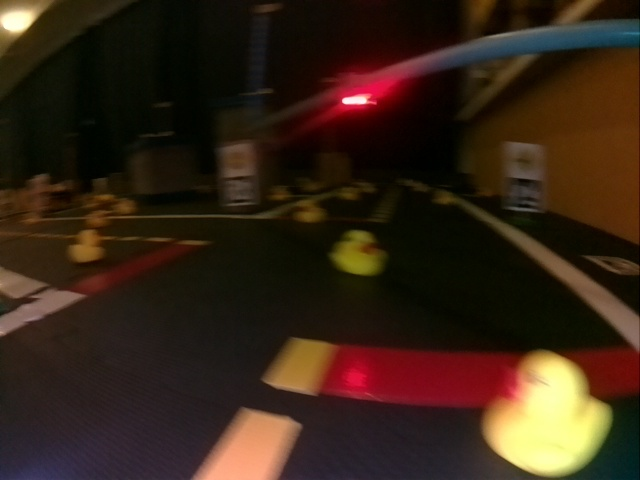Duckie: (482, 351, 615, 476), (331, 230, 387, 275), (66, 231, 105, 263)
Intersection sign: (506, 143, 541, 175)
QR code: (504, 179, 542, 212), (220, 177, 259, 206), (586, 255, 638, 275)
Traffic light: (337, 78, 375, 112)
